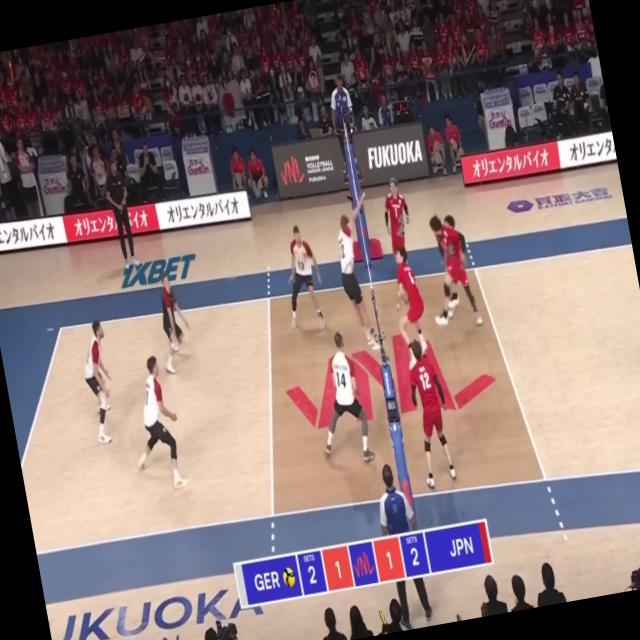referee: (371, 459, 435, 626)
team_one: (325, 189, 393, 353), (304, 328, 376, 471), (120, 352, 190, 494), (74, 319, 124, 446), (276, 222, 330, 338), (150, 270, 198, 376)
team_two: (400, 336, 460, 490), (417, 212, 484, 333), (384, 244, 434, 370), (428, 210, 478, 318), (375, 174, 420, 278)
